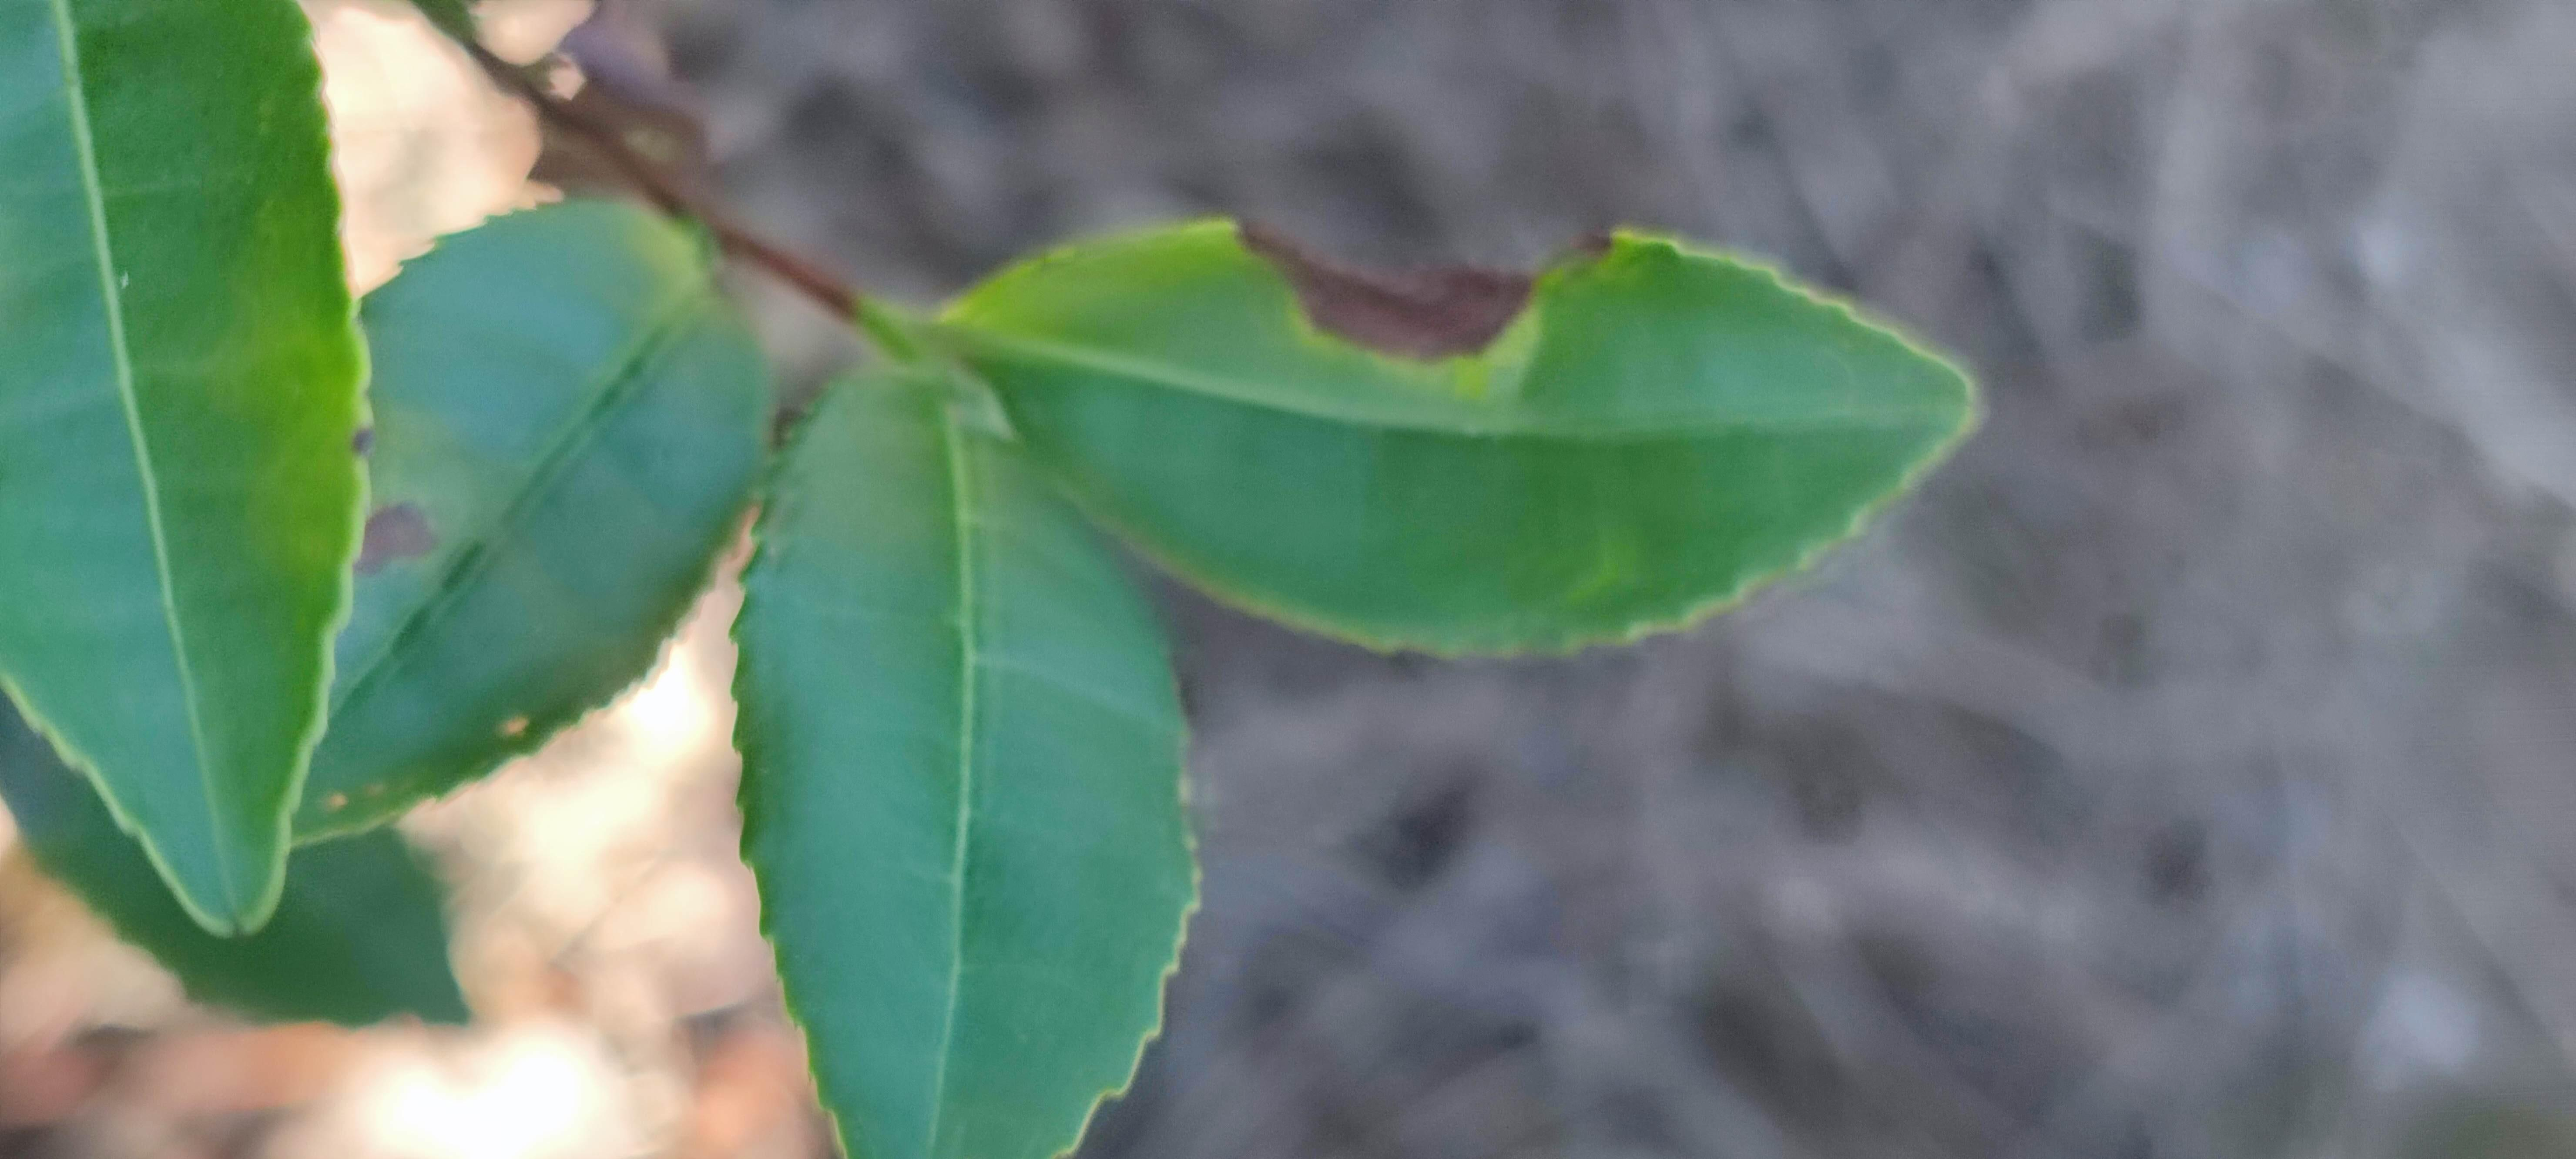healthy: (723, 348, 1207, 1154), (8, 5, 370, 944)
tanju_high: (959, 213, 1980, 670), (291, 195, 775, 845)
